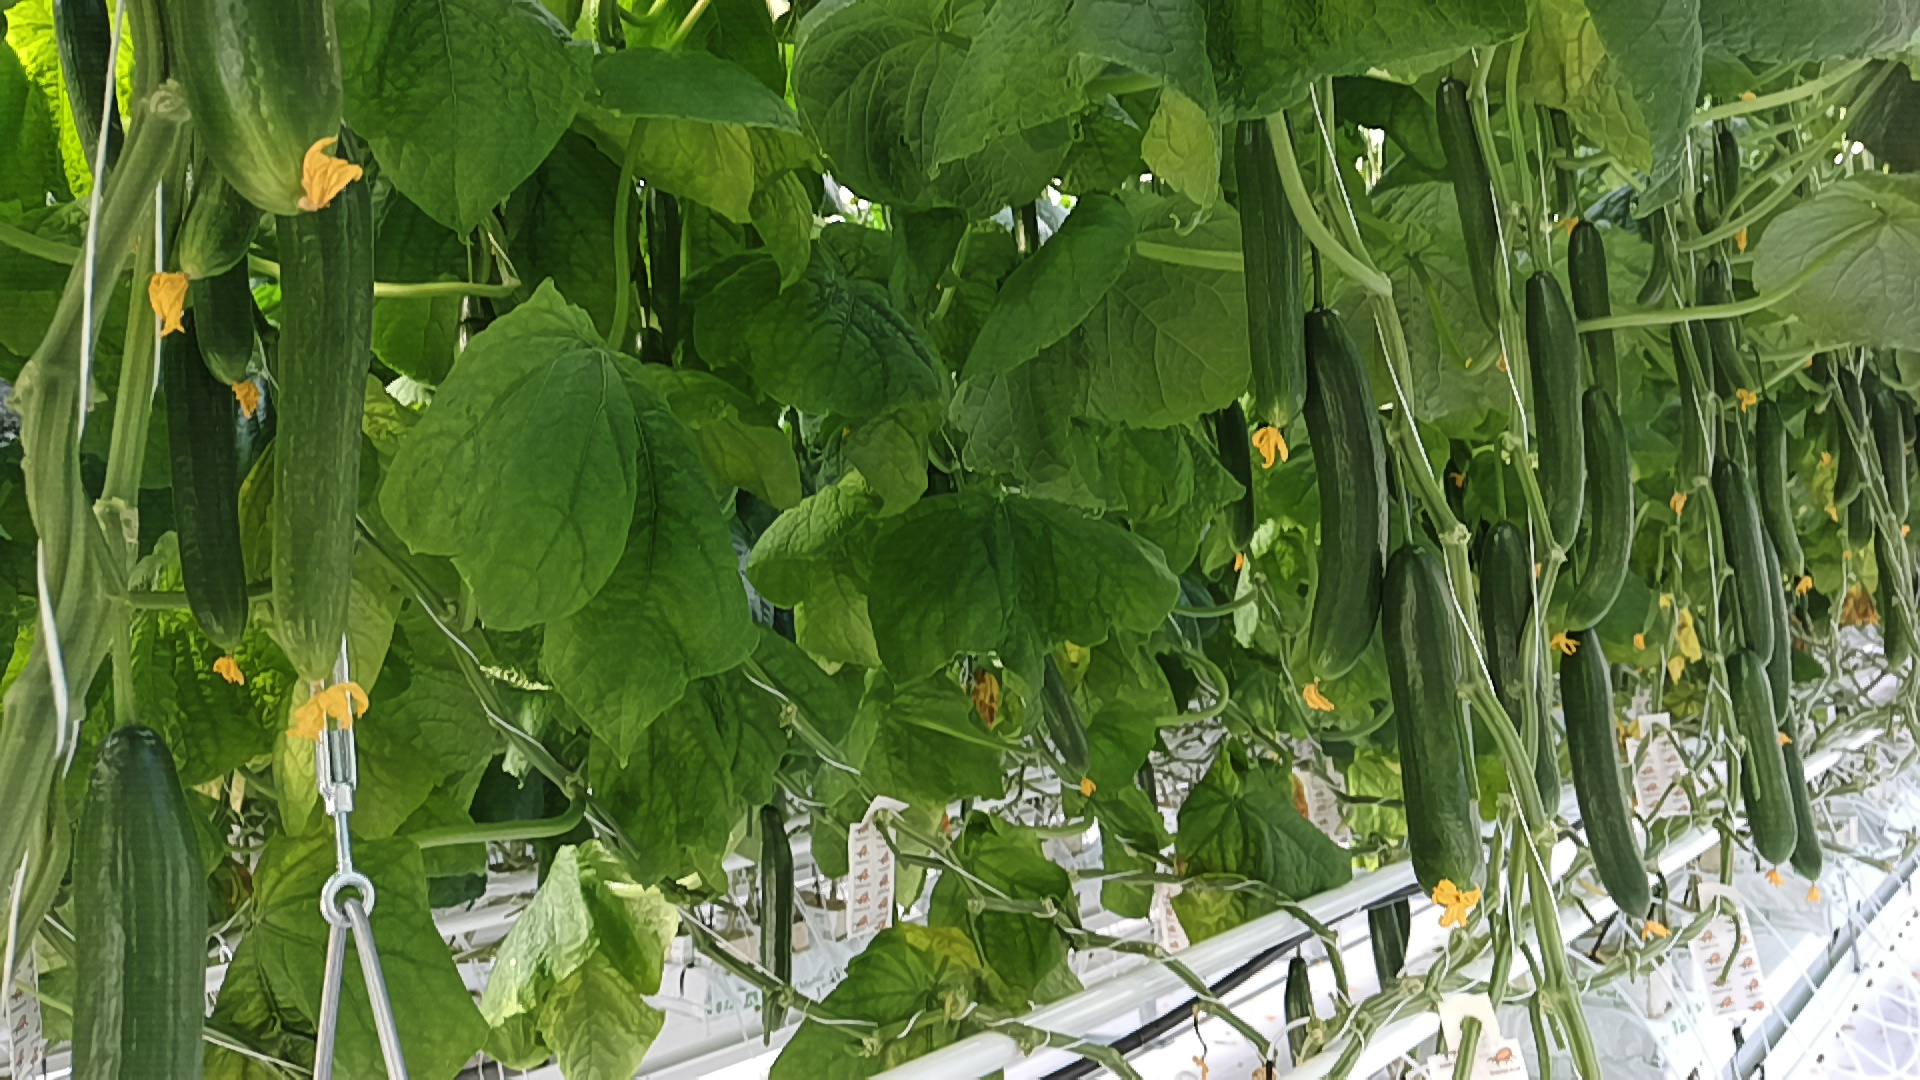gurka: (1371, 517, 1513, 918), (1287, 297, 1391, 709), (1547, 616, 1673, 926), (1225, 91, 1333, 440), (1432, 73, 1535, 342), (1522, 276, 1597, 591), (1714, 644, 1803, 866), (1702, 446, 1785, 675), (746, 793, 804, 1043)
